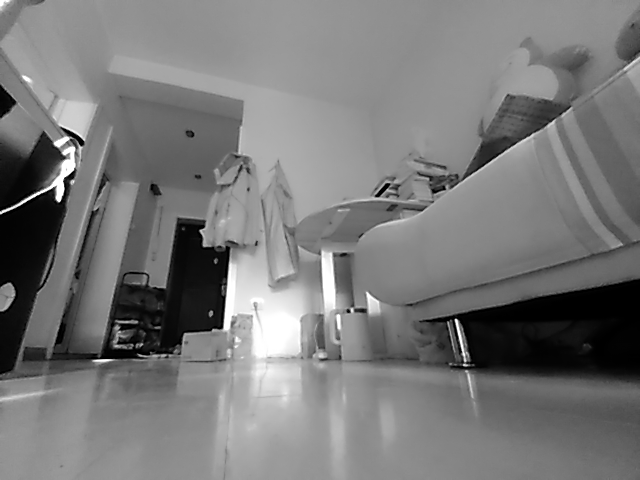wire: (256, 320, 300, 362)
